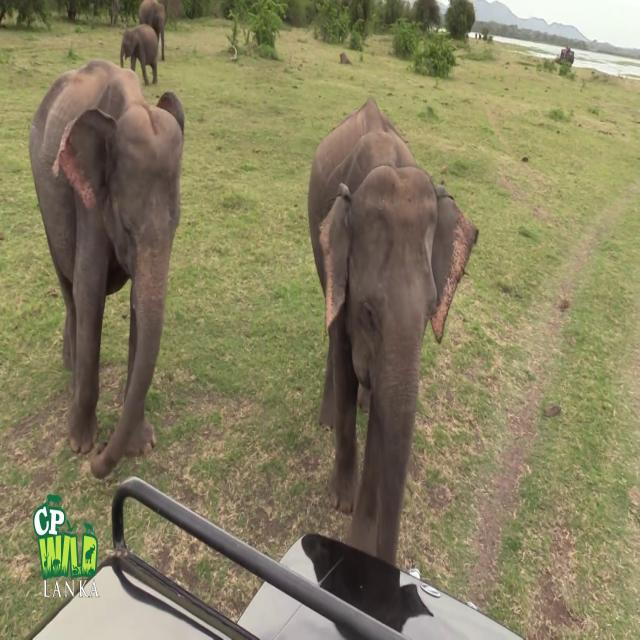Elephant: (309, 97, 469, 560), (29, 57, 184, 479), (120, 23, 158, 85), (138, 0, 165, 62)
